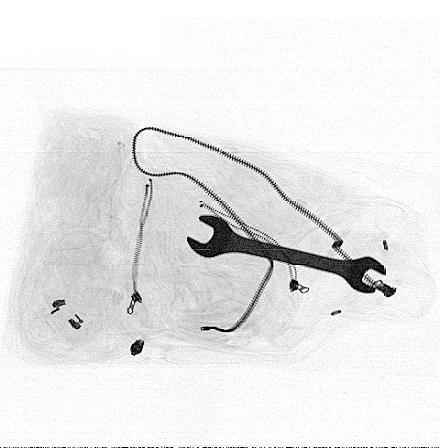Wrench: (186, 214, 387, 293)
